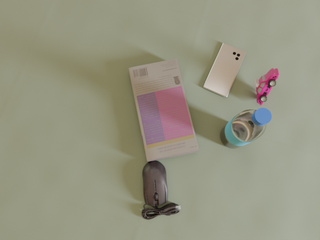book: (129, 58, 199, 162)
bottle: (220, 108, 271, 148)
mouse: (142, 161, 180, 219)
phone: (203, 43, 246, 97)
toy_car: (254, 69, 279, 105)
